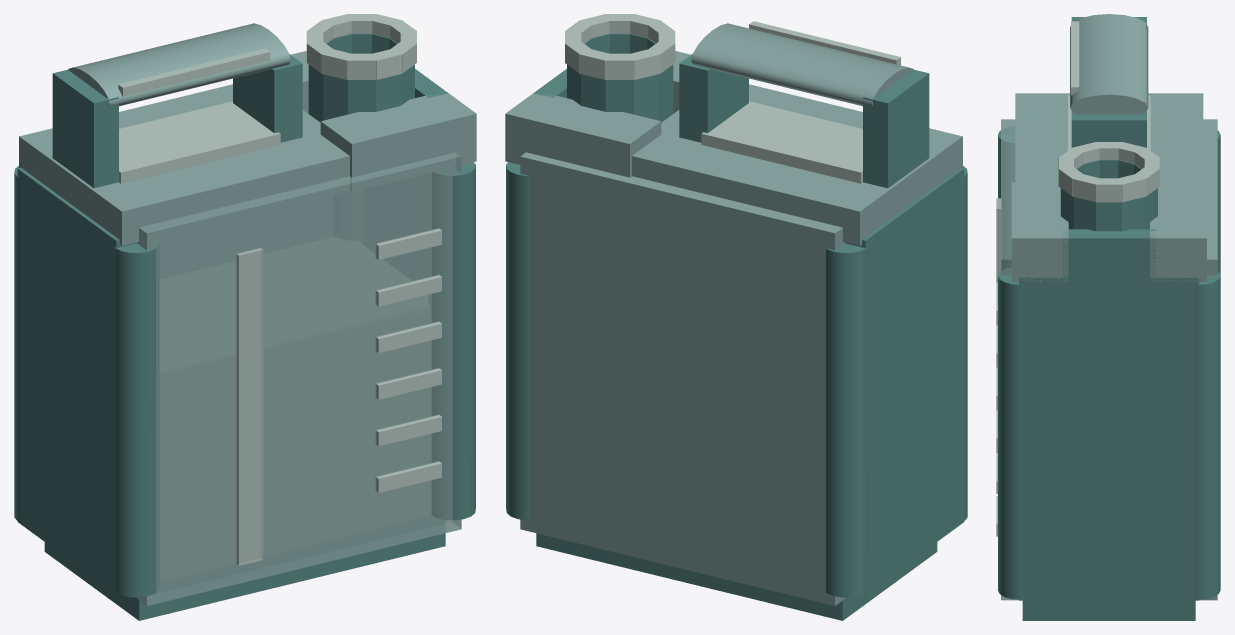
Rendered from CMU3DReagentJugFill3StudyCloud.glb.
The picture shows the model from 3 angles, left to right: view 1: azimuth 30°, elevation 25°; view 2: azimuth 150°, elevation 25°; view 3: azimuth 270°, elevation 25°; orthographic projection. The views are drawn at different scales.
Visible parts, largest first — view 1: front translucent jug wall, left molded jug wall, rounded canister corner (×3), jug shoulder left deck, jug shoulder front around spout, front vertical molding, handle inner lower ledge, handle rounded bridge, handle left upright, closed molded jug floor, handle right upright, handle top glint (+13 smaller); view 2: back molded jug wall, left molded jug wall, rounded canister corner (×3), jug shoulder left deck, handle rounded bridge, jug shoulder rear around spout, handle inner lower ledge, handle left upright, closed molded jug floor, handle right upright, handle top glint, hollow pouring neck 06 (+6 smaller); view 3: right molded jug wall, rounded canister corner (×4), jug shoulder left deck, handle rounded bridge, jug shoulder front around spout, jug shoulder rear around spout, jug shoulder right around spout, closed molded jug floor, handle right upright, back molded jug wall, front translucent jug wall, hollow pouring neck 01 (+16 smaller).
Boxes of the visible parts, bbox=[...] form: front translucent jug wall: bbox=[137, 152, 461, 605]; left molded jug wall: bbox=[17, 168, 137, 594]; rounded canister corner (×3): bbox=[14, 162, 475, 597]; jug shoulder left deck: bbox=[19, 84, 349, 245]; jug shoulder front around spout: bbox=[320, 91, 476, 191]; front vertical molding: bbox=[236, 248, 263, 565]; handle inner lower ledge: bbox=[119, 101, 280, 183]; handle rounded bridge: bbox=[68, 23, 290, 106]; handle left upright: bbox=[52, 69, 118, 188]; closed molded jug floor: bbox=[44, 533, 445, 620]; handle right upright: bbox=[233, 54, 302, 142]; handle top glint: bbox=[118, 48, 270, 96]; back molded jug wall: bbox=[520, 152, 844, 605]; left molded jug wall: bbox=[845, 168, 964, 594]; rounded canister corner (×3): bbox=[506, 162, 967, 597]; jug shoulder left deck: bbox=[632, 84, 962, 245]; handle rounded bridge: bbox=[691, 23, 913, 106]; jug shoulder rear around spout: bbox=[505, 93, 661, 177]; handle inner lower ledge: bbox=[701, 101, 862, 183]; handle left upright: bbox=[863, 69, 929, 188]; closed molded jug floor: bbox=[536, 533, 937, 620]; handle right upright: bbox=[679, 54, 748, 142]; handle top glint: bbox=[749, 21, 900, 65]; hollow pouring neck 06: bbox=[634, 74, 658, 120]; right molded jug wall: bbox=[1019, 277, 1199, 600]; rounded canister corner (×4): bbox=[998, 130, 1220, 599]; jug shoulder left deck: bbox=[1015, 93, 1203, 182]; handle rounded bridge: bbox=[1070, 14, 1148, 114]; jug shoulder front around spout: bbox=[1011, 182, 1068, 281]; jug shoulder rear around spout: bbox=[1150, 182, 1206, 281]; jug shoulder right around spout: bbox=[1062, 229, 1155, 281]; closed molded jug floor: bbox=[1022, 600, 1195, 620]; handle right upright: bbox=[1071, 111, 1146, 147]; back molded jug wall: bbox=[1199, 119, 1217, 600]; front translucent jug wall: bbox=[1001, 119, 1018, 600]; hollow pouring neck 01: bbox=[1096, 202, 1121, 231].
Size of the model in its own units: 0.502 by 0.688 by 0.298.
